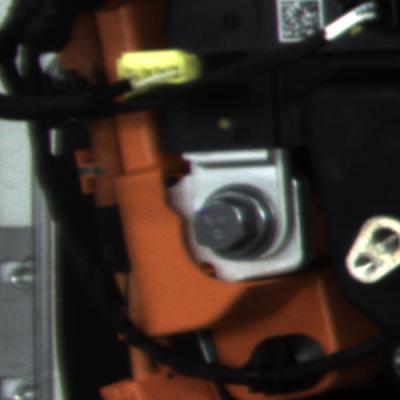nut_b: (186, 175, 289, 268)
